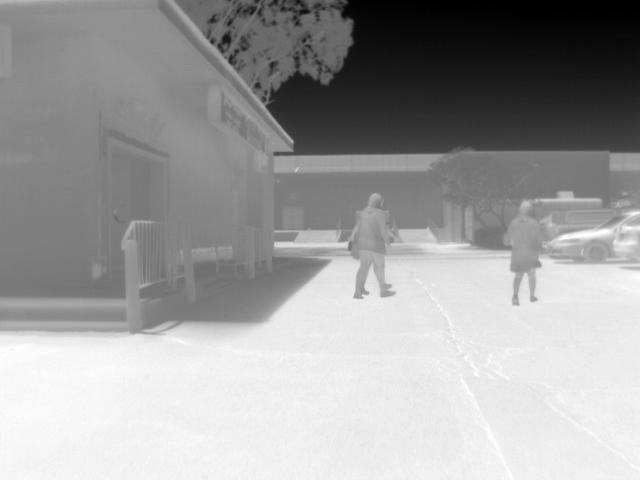car: (549, 210, 639, 262), (542, 205, 632, 240), (614, 210, 640, 264)
person: (351, 190, 396, 298), (510, 197, 546, 306)
